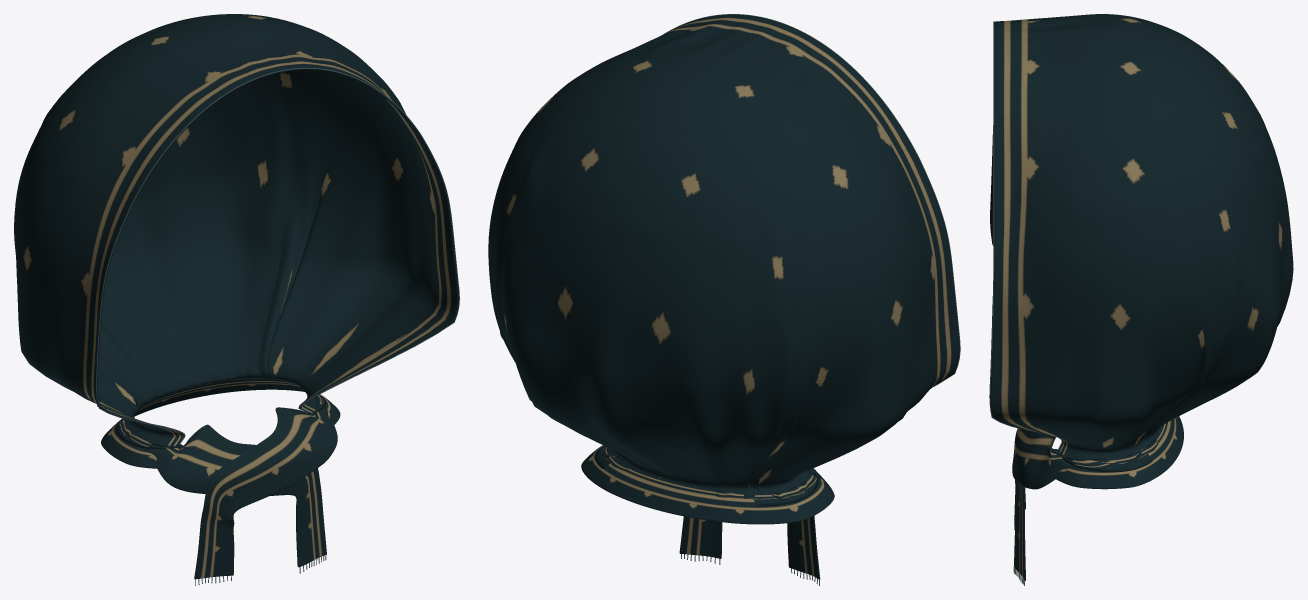
Rendered from Masculine-buttonup-pashmina237-headgear.glb.
The picture shows the model from 3 angles, left to right: view 1: azimuth 30°, elevation 25°; view 2: azimuth 150°, elevation 25°; view 3: azimuth 270°, elevation 25°; orthographic projection. The views are drawn at different scales.
Parts seen in each view (by area): view 1: 226 headgear / Headwear / continuous woven pashmina237, 226 headgear / Headwear / face edge237; view 2: 226 headgear / Headwear / continuous woven pashmina237, 226 headgear / Headwear / face edge237; view 3: 226 headgear / Headwear / continuous woven pashmina237, 226 headgear / Headwear / face edge237.
Part boxes in pixels (left/top/right/bottom): 226 headgear / Headwear / continuous woven pashmina237: left=14, top=14, right=458, bottom=579; 226 headgear / Headwear / face edge237: left=96, top=68, right=459, bottom=443; 226 headgear / Headwear / continuous woven pashmina237: left=488, top=14, right=959, bottom=579; 226 headgear / Headwear / face edge237: left=663, top=14, right=960, bottom=387; 226 headgear / Headwear / continuous woven pashmina237: left=990, top=14, right=1293, bottom=580; 226 headgear / Headwear / face edge237: left=989, top=21, right=1062, bottom=448.
Bounding box in the file's own units: 1.03 × 1.35 × 0.7127.
3 materials, 1 textured.
